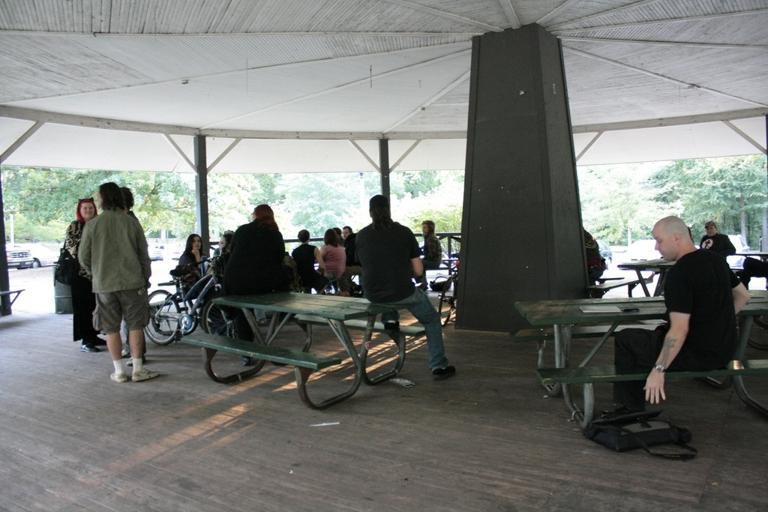non-vehicle: (139, 252, 255, 347), (435, 250, 461, 329)
